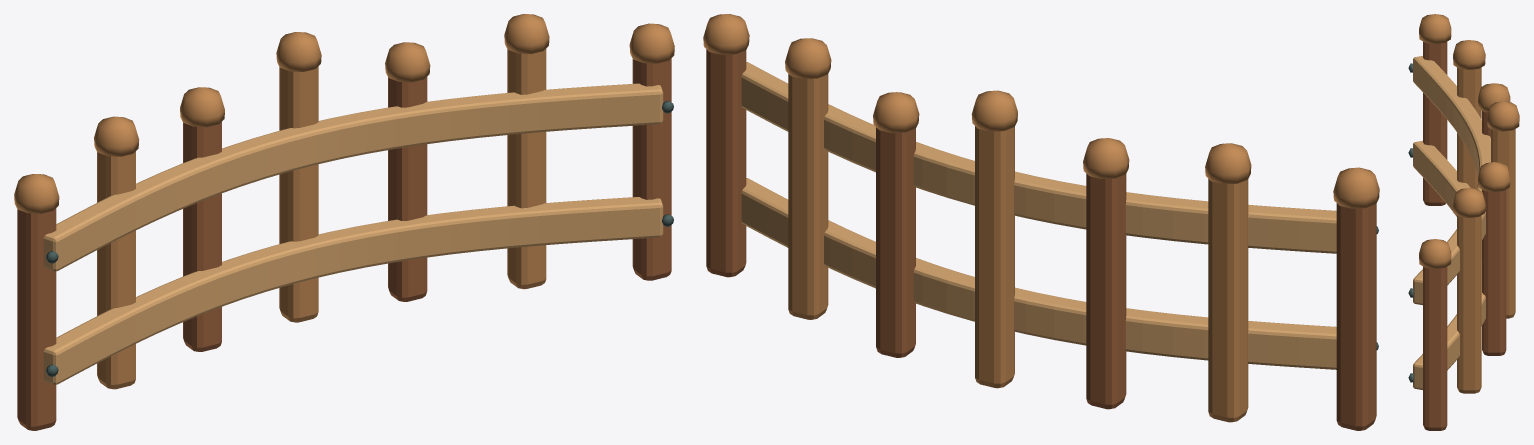
Rendered from valla.glb.
The picture shows the model from 3 angles, left to right: view 1: azimuth 30°, elevation 25°; view 2: azimuth 150°, elevation 25°; view 3: azimuth 270°, elevation 25°; orthographic projection. The views are drawn at different scales.
Visible parts, largest first — view 1: MH09_Curved_Fence_Module_LOD0; view 2: MH09_Curved_Fence_Module_LOD0; view 3: MH09_Curved_Fence_Module_LOD0.
Part boxes in pixels (x1,y1,x2,y2): MH09_Curved_Fence_Module_LOD0: (14, 14, 674, 430); MH09_Curved_Fence_Module_LOD0: (703, 14, 1379, 430); MH09_Curved_Fence_Module_LOD0: (1408, 14, 1519, 430).
Bounding box in the file's own units: 2.66 × 1.11 × 0.5221.
